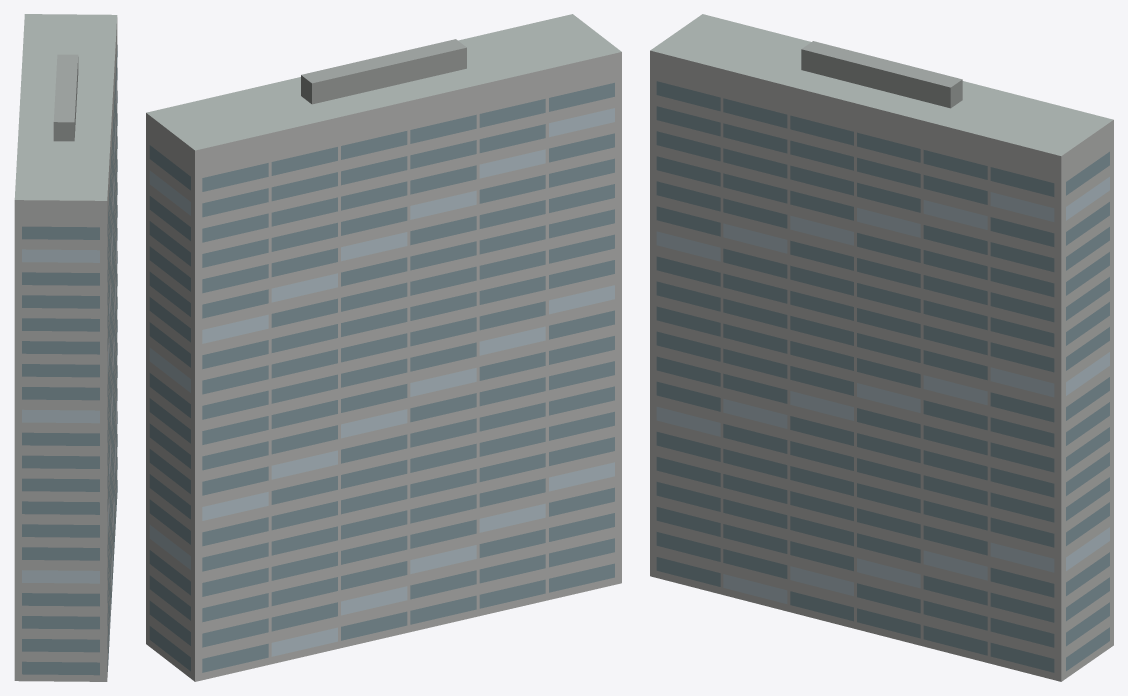
File: fallback-dmc-raemian-e-pyeonhansesang-110.glb
3 views of the same model, side by side, from view 1: azimuth 30°, elevation 25°; view 2: azimuth 150°, elevation 25°; view 3: azimuth 270°, elevation 25° (orthographic). The views are drawn at different scales.
Visible parts, largest first — view 1: fallback-dmc-raemian-e-pyeonhansesang-110; view 2: fallback-dmc-raemian-e-pyeonhansesang-110; view 3: fallback-dmc-raemian-e-pyeonhansesang-110.
Part boxes in pixels (x1,y1,x2,y2): fallback-dmc-raemian-e-pyeonhansesang-110: [14, 14, 117, 681]; fallback-dmc-raemian-e-pyeonhansesang-110: [146, 14, 621, 681]; fallback-dmc-raemian-e-pyeonhansesang-110: [650, 14, 1113, 681].
Bounding box in the file's own units: 35.16 × 63 × 48.45.
